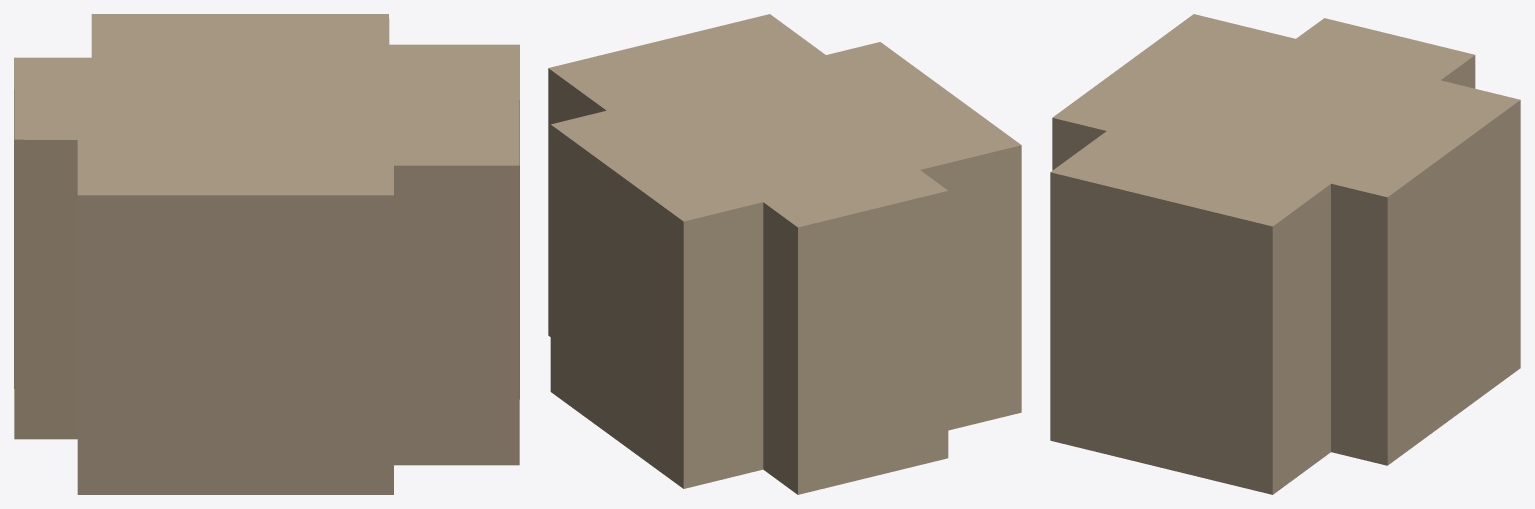
Rendered from bld_101246017.dae.
3 renders of one model, left to right at view 1: azimuth 30°, elevation 25°; view 2: azimuth 150°, elevation 25°; view 3: azimuth 270°, elevation 25°, orthographic. The views are drawn at different scales.
Visible parts, largest first — view 1: bld_101246017; view 2: bld_101246017; view 3: bld_101246017.
Part boxes in pixels (x1,y1,x2,y2): bld_101246017: (14, 14, 519, 494); bld_101246017: (548, 14, 1021, 494); bld_101246017: (1050, 14, 1520, 494).
Bounding box in the file's own units: 11.89 × 11.11 × 7.
